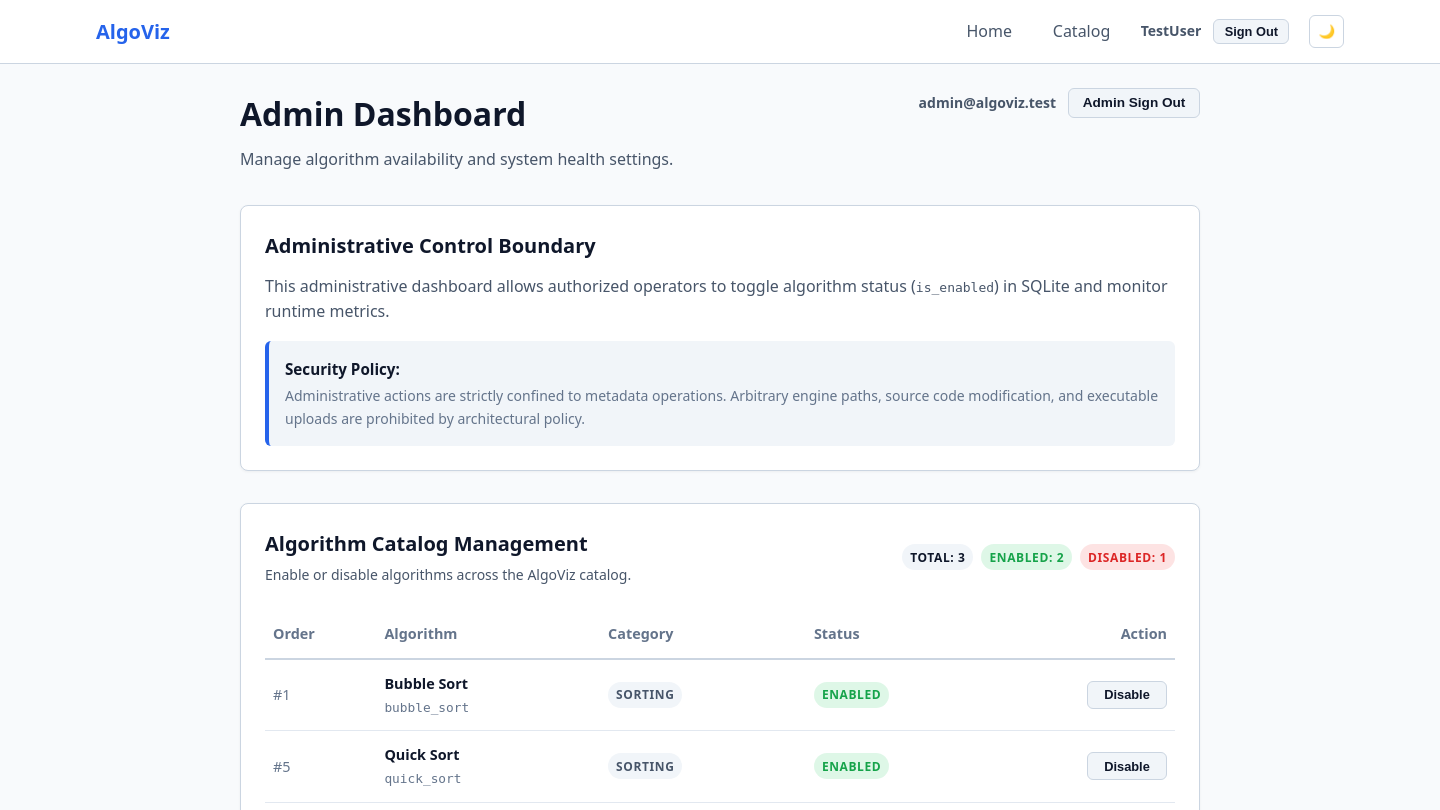
Test: Frontend Admin Catalog Management Tests › 4. Displays error alert when updating algorithm status fails
Expected: the text "Bubble Sort" is shown, [384,674,468,692]
Click the button "Disable" in the row of "Bubble Sort". click: click(1127, 695)
box: [1087,681,1167,709]
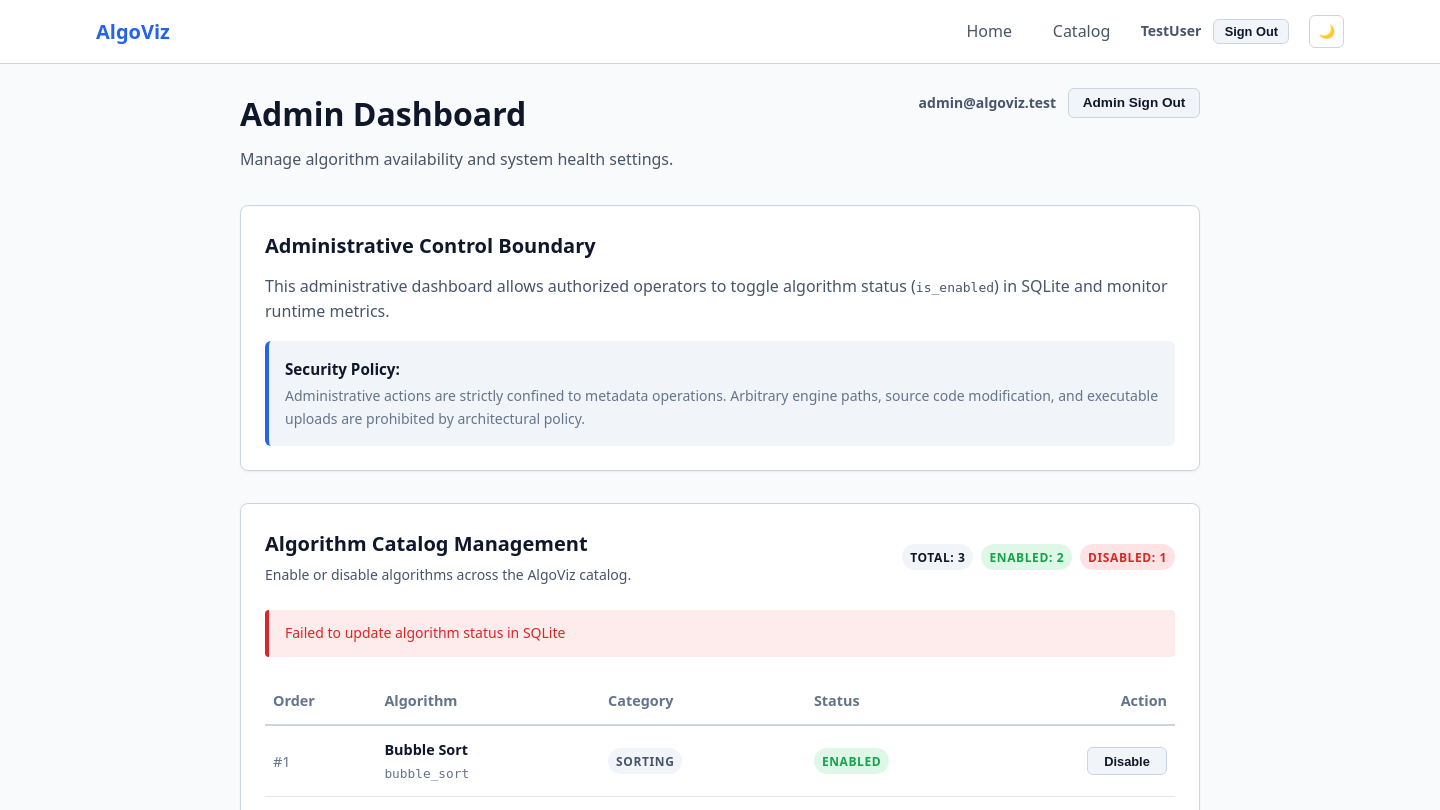
Expected: the row with test id "admin-algo-row-bubble_sort" shows "Enabled", [822,752,881,770]
Result: the message reads "Failed to update algorithm status in SQLite" at [285,624,565,642]
